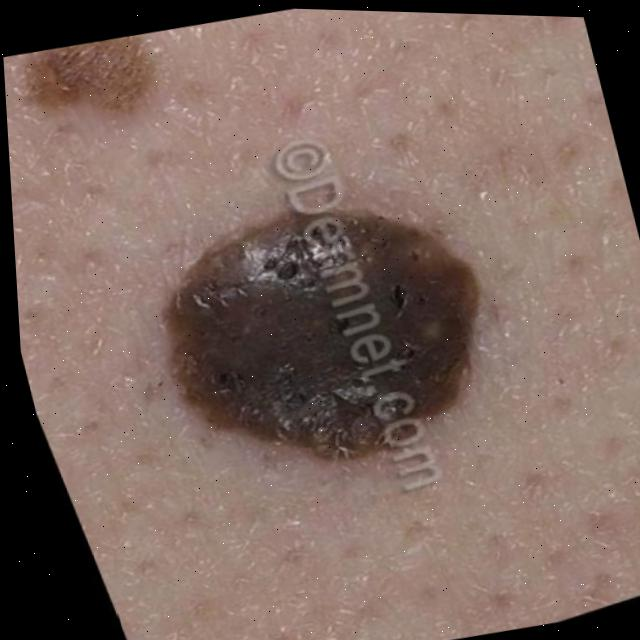Eczema: (145, 203, 447, 463), (42, 30, 161, 109)
